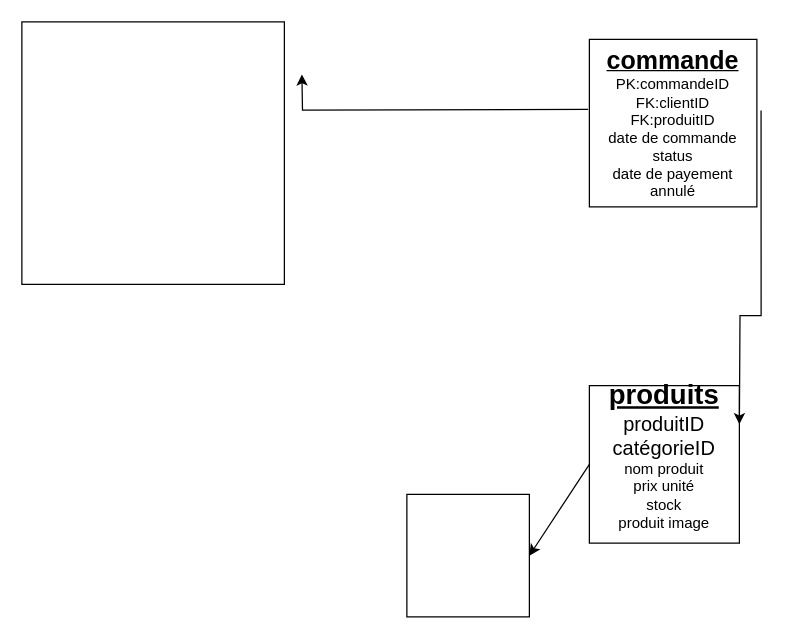
Image size: 794x639. Some labels were removed from this diagram. The box of each missing label's shape, as (x1, y1, x2, y2) in pixels:
catégorie catégorieID nom catégorie catégorie image: (406, 493, 529, 617)
client PK:clientID nom prénom adresse phone email motdepasse: (21, 21, 284, 284)
